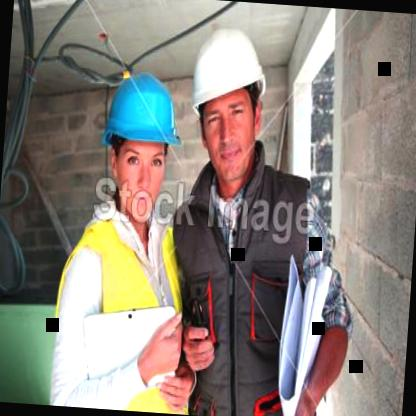helmet: (173, 20, 278, 192), (90, 54, 188, 222)
